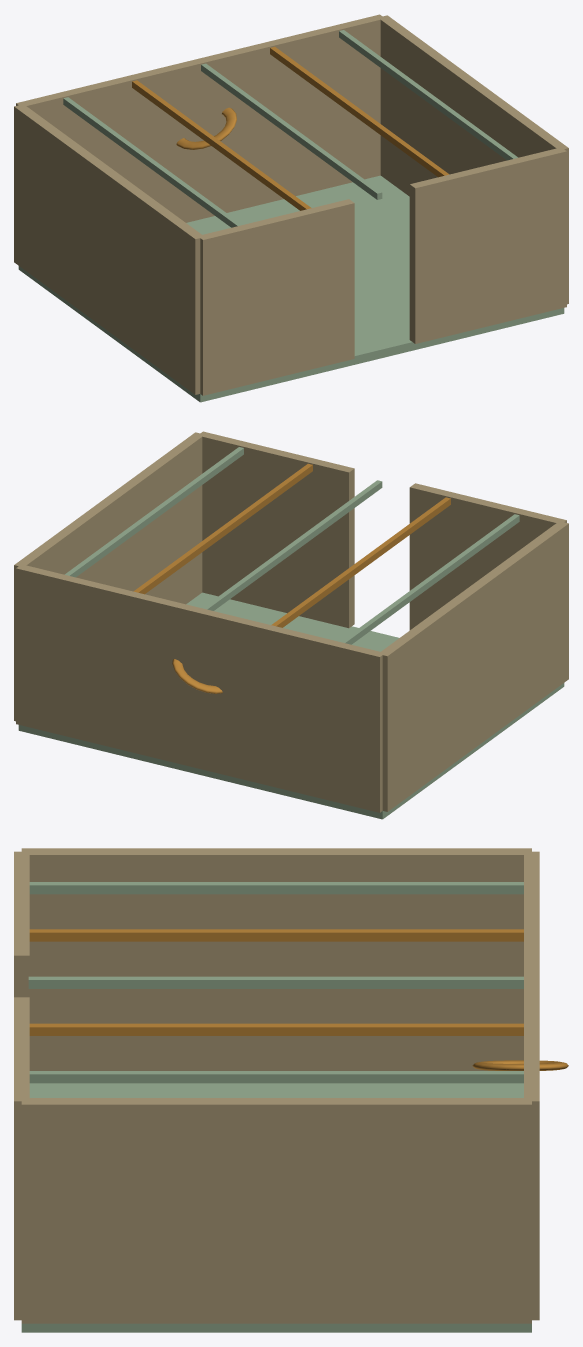
File: clock_core_main.glb
3 renders of one model, top to bottom at view 1: azimuth 30°, elevation 25°; view 2: azimuth 150°, elevation 25°; view 3: azimuth 270°, elevation 25°, orthographic. The views are drawn at different scales.
Visible parts, largest first — view 1: wall_north, wall_west, wall_south_right, wall_south_left, wall_east, floor, ceiling_beam_0, ceiling_beam_-2, ceiling_beam_-1, ceiling_beam_1, ceiling_beam_2, purpose_clock_core; view 2: wall_north, wall_west, wall_south_right, wall_east, wall_south_left, floor, ceiling_beam_0, ceiling_beam_-2, ceiling_beam_-1, ceiling_beam_1, ceiling_beam_2, purpose_clock_core; view 3: wall_east, wall_west, floor, ceiling_beam_0, ceiling_beam_-1, ceiling_beam_-2, ceiling_beam_1, ceiling_beam_2, wall_north, wall_south_right, wall_south_left, purpose_clock_core.
Part boxes in pixels (x1=…): wall_north: x1=16, y1=14, x2=384, y2=222; wall_west: x1=14, y1=105, x2=204, y2=394; wall_south_right: x1=409, y1=147, x2=566, y2=343; wall_south_left: x1=198, y1=199, x2=354, y2=395; wall_east: x1=379, y1=15, x2=568, y2=304; floor: x1=18, y1=175, x2=564, y2=402; ceiling_beam_0: x1=201, y1=63, x2=382, y2=199; ceiling_beam_-2: x1=63, y1=97, x2=242, y2=227; ceiling_beam_-1: x1=132, y1=80, x2=311, y2=210; ceiling_beam_1: x1=270, y1=46, x2=449, y2=177; ceiling_beam_2: x1=339, y1=30, x2=517, y2=160; purpose_clock_core: x1=176, y1=107, x2=236, y2=149; wall_north: x1=16, y1=564, x2=384, y2=812; wall_west: x1=378, y1=522, x2=568, y2=811; wall_south_right: x1=199, y1=431, x2=354, y2=628; wall_east: x1=14, y1=432, x2=204, y2=721; wall_south_left: x1=409, y1=483, x2=566, y2=630; floor: x1=18, y1=592, x2=564, y2=819; ceiling_beam_0: x1=203, y1=480, x2=382, y2=610; ceiling_beam_-2: x1=340, y1=514, x2=519, y2=644; ceiling_beam_-1: x1=271, y1=497, x2=450, y2=627; ceiling_beam_1: x1=133, y1=463, x2=312, y2=594; ceiling_beam_2: x1=65, y1=447, x2=243, y2=577; purpose_clock_core: x1=172, y1=659, x2=222, y2=693; wall_east: x1=21, y1=1098, x2=531, y2=1323; wall_west: x1=21, y1=848, x2=531, y2=1070; floor: x1=21, y1=1083, x2=531, y2=1332; ceiling_beam_0: x1=28, y1=976, x2=523, y2=988; ceiling_beam_-1: x1=29, y1=929, x2=523, y2=941; ceiling_beam_-2: x1=29, y1=882, x2=523, y2=894; ceiling_beam_1: x1=29, y1=1023, x2=523, y2=1035; ceiling_beam_2: x1=29, y1=1071, x2=523, y2=1083; wall_north: x1=524, y1=851, x2=539, y2=1320; wall_south_right: x1=14, y1=997, x2=29, y2=1320; wall_south_left: x1=14, y1=851, x2=29, y2=997; purpose_clock_core: x1=472, y1=1060, x2=568, y2=1070.
Size of what is drawn, in the model's own units: 13.55 by 5.7 by 12.41.
